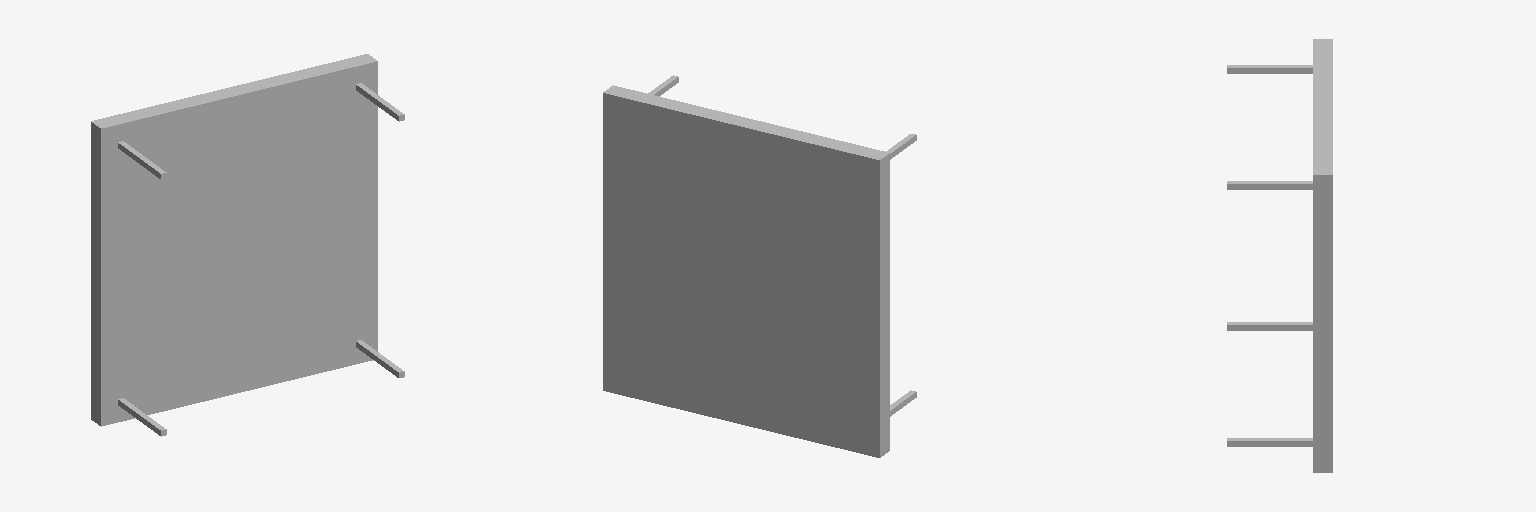
The model's file is random_table85.obj.
3 renders of one model, left to right at view 1: azimuth 30°, elevation 25°; view 2: azimuth 150°, elevation 25°; view 3: azimuth 270°, elevation 25°, orthographic.
Parts seen in each view (by area): view 1: Table_Cube.1490, TableLeg0_Cube.1491, TableLeg1_Cube.1492, TableLeg3_Cube.1494; view 2: Table_Cube.1490; view 3: Table_Cube.1490, TableLeg0_Cube.1491, TableLeg1_Cube.1492, TableLeg2_Cube.1493, TableLeg3_Cube.1494.
Part boxes in pixels (left/top/right/bottom): Table_Cube.1490: left=91, top=54, right=377, bottom=426; TableLeg0_Cube.1491: left=356, top=83, right=404, bottom=121; TableLeg1_Cube.1492: left=118, top=141, right=166, bottom=179; TableLeg3_Cube.1494: left=118, top=398, right=166, bottom=436; Table_Cube.1490: left=603, top=85, right=889, bottom=457; Table_Cube.1490: left=1313, top=39, right=1332, bottom=472; TableLeg0_Cube.1491: left=1227, top=181, right=1312, bottom=189; TableLeg1_Cube.1492: left=1227, top=65, right=1312, bottom=73; TableLeg2_Cube.1493: left=1227, top=438, right=1312, bottom=446; TableLeg3_Cube.1494: left=1227, top=322, right=1312, bottom=330.
Bounding box in the file's own units: 6.3 × 6.47 × 2.11.